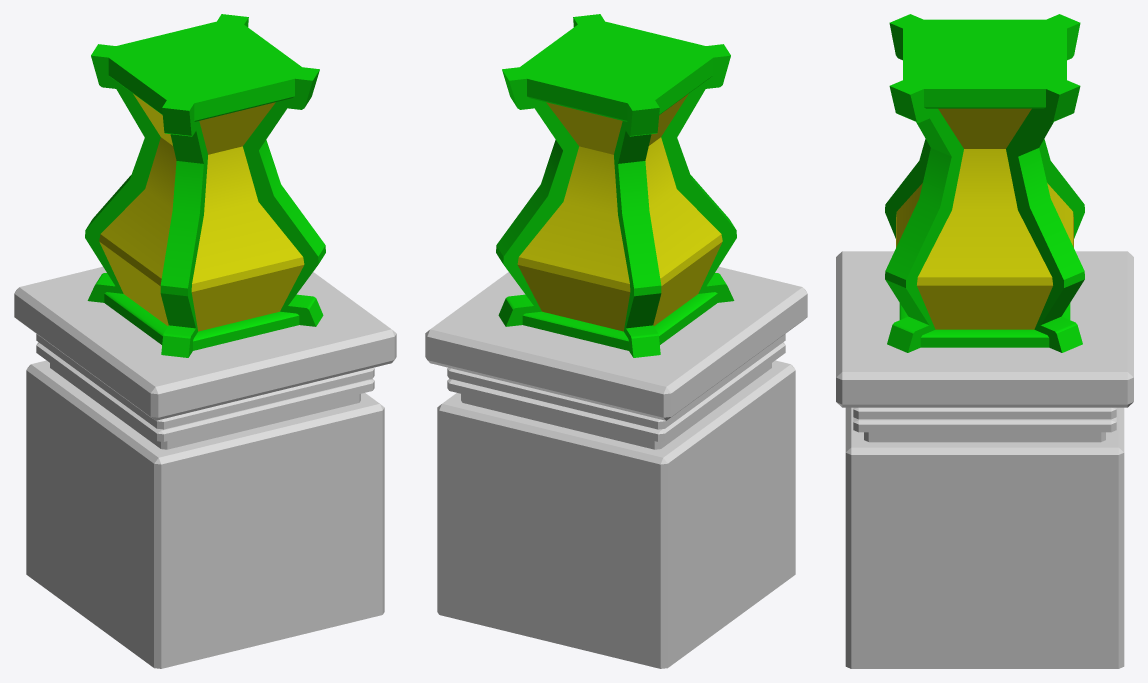
Rendered from STATIC_LAMPE02.fbx.
3 views of the same model, side by side, from view 1: azimuth 30°, elevation 25°; view 2: azimuth 150°, elevation 25°; view 3: azimuth 270°, elevation 25° (orthographic). The views are drawn at different scales.
Visible parts, largest first — view 1: pCube27, pCube32, pCube29, pCube31, pCube30, pCube28; view 2: pCube27, pCube32, pCube29, pCube31, pCube30, pCube28; view 3: pCube27, pCube32, pCube29, pCube31, pCube30, pCube28.
Boxes of the visible parts, <box> form: pCube27: <box>26,360,384,668</box>; pCube32: <box>85,14,325,357</box>; pCube29: <box>14,266,396,420</box>; pCube31: <box>36,342,374,441</box>; pCube30: <box>36,334,374,429</box>; pCube28: <box>50,363,360,449</box>; pCube27: <box>437,360,795,668</box>; pCube32: <box>496,14,736,357</box>; pCube29: <box>425,266,807,420</box>; pCube31: <box>447,342,785,441</box>; pCube30: <box>447,334,785,429</box>; pCube28: <box>461,363,771,449</box>; pCube27: <box>845,407,1124,668</box>; pCube32: <box>885,14,1084,352</box>; pCube29: <box>836,251,1133,407</box>; pCube31: <box>853,417,1116,432</box>; pCube30: <box>853,407,1116,419</box>; pCube28: <box>864,432,1105,442</box>.
Bounding box in the file's own units: 8.35 × 17.2 × 8.35.
